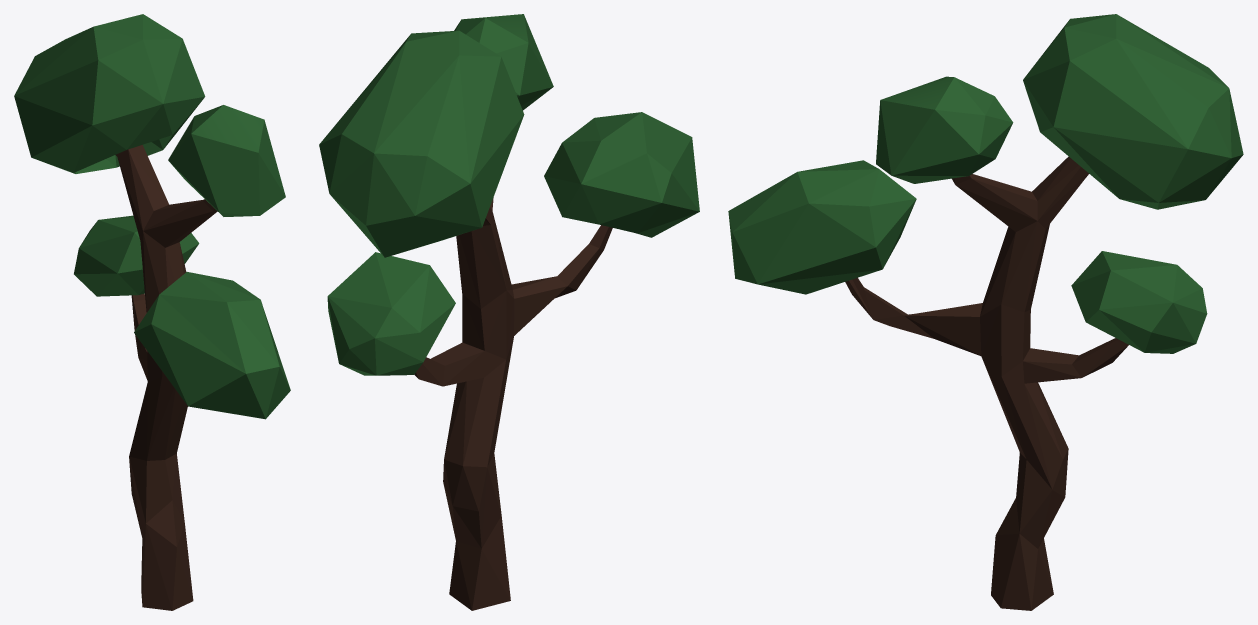
3 views of the same model, side by side, from view 1: azimuth 30°, elevation 25°; view 2: azimuth 150°, elevation 25°; view 3: azimuth 270°, elevation 25° (orthographic). The views are drawn at different scales.
Visible parts, largest first — view 1: Mesh_4.001; view 2: Mesh_4.001; view 3: Mesh_4.001.
Part boxes in pixels (box(x1,y1,x2,y2)): Mesh_4.001: box(14, 14, 290, 610); Mesh_4.001: box(319, 14, 699, 610); Mesh_4.001: box(728, 14, 1243, 610).
Size of the model in its own units: 1.65 by 4.77 by 3.89.
